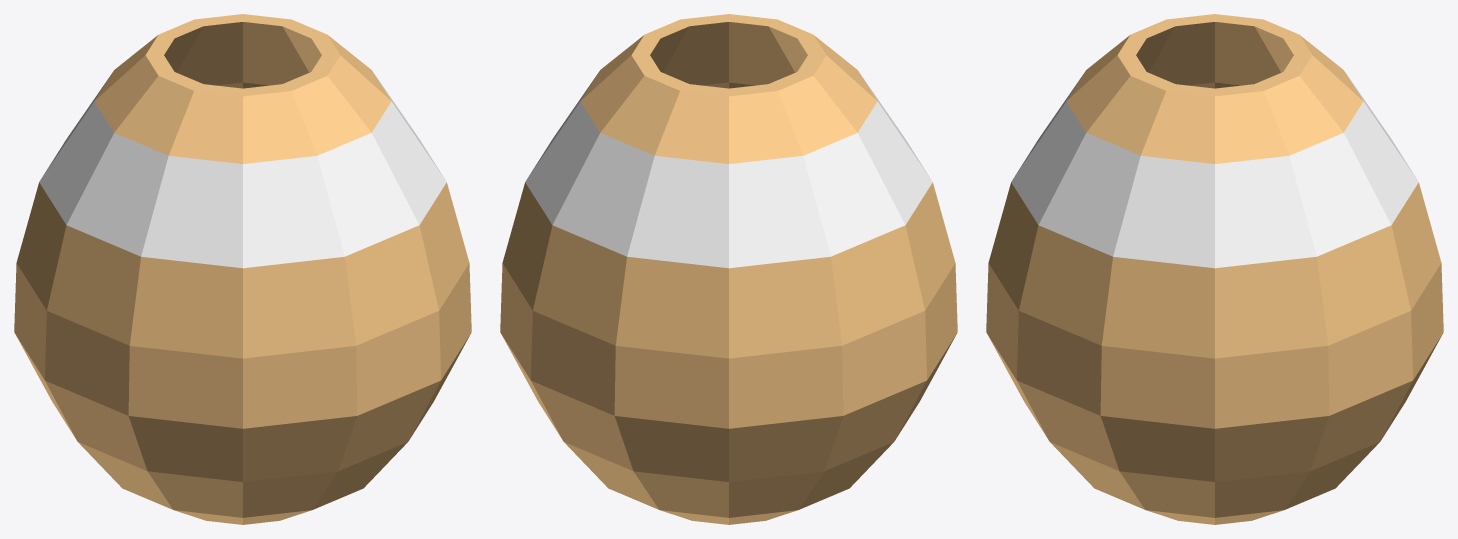
File: small-vase-by-jarlan-perez-cfW7jP87jTB.glb
The picture shows the model from 3 angles, left to right: view 1: azimuth 30°, elevation 25°; view 2: azimuth 150°, elevation 25°; view 3: azimuth 270°, elevation 25°; orthographic projection.
Parts seen in each view (by area): view 1: Node; view 2: Node; view 3: Node.
Part boxes in pixels (x1,y1,x2,y2): Node: (14,14,471,524); Node: (500,14,957,524); Node: (986,14,1443,524).
Bounding box in the file's own units: 0.3594 × 0.38 × 0.3594.
